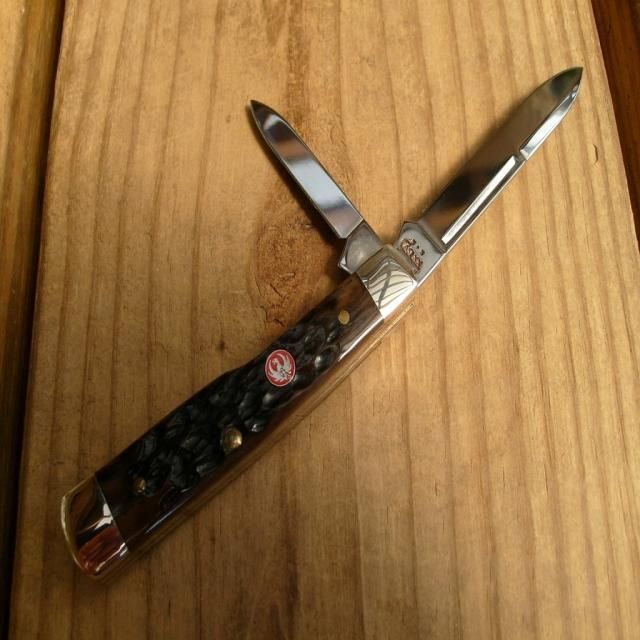Knife: (62, 68, 581, 578)
